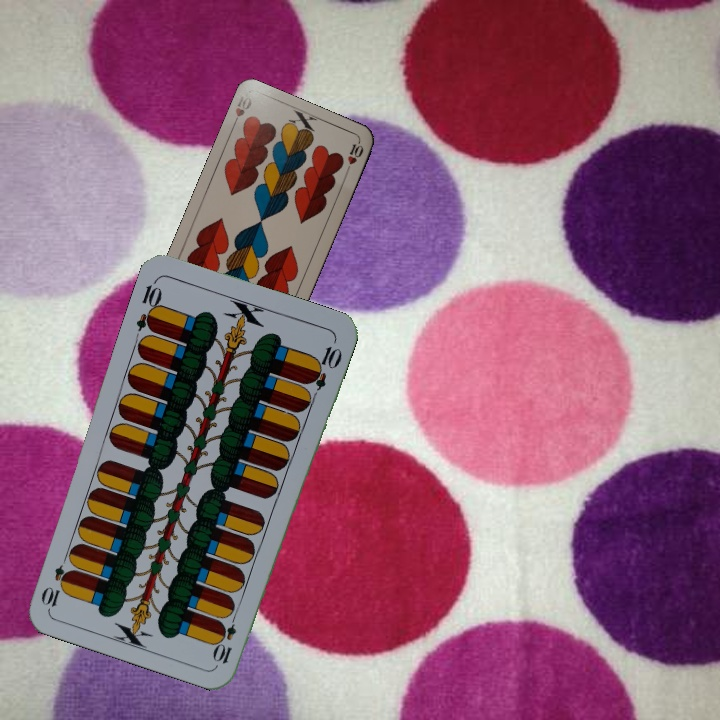E10: (132, 275, 165, 334), (211, 608, 240, 666)
H10: (227, 91, 255, 130)
